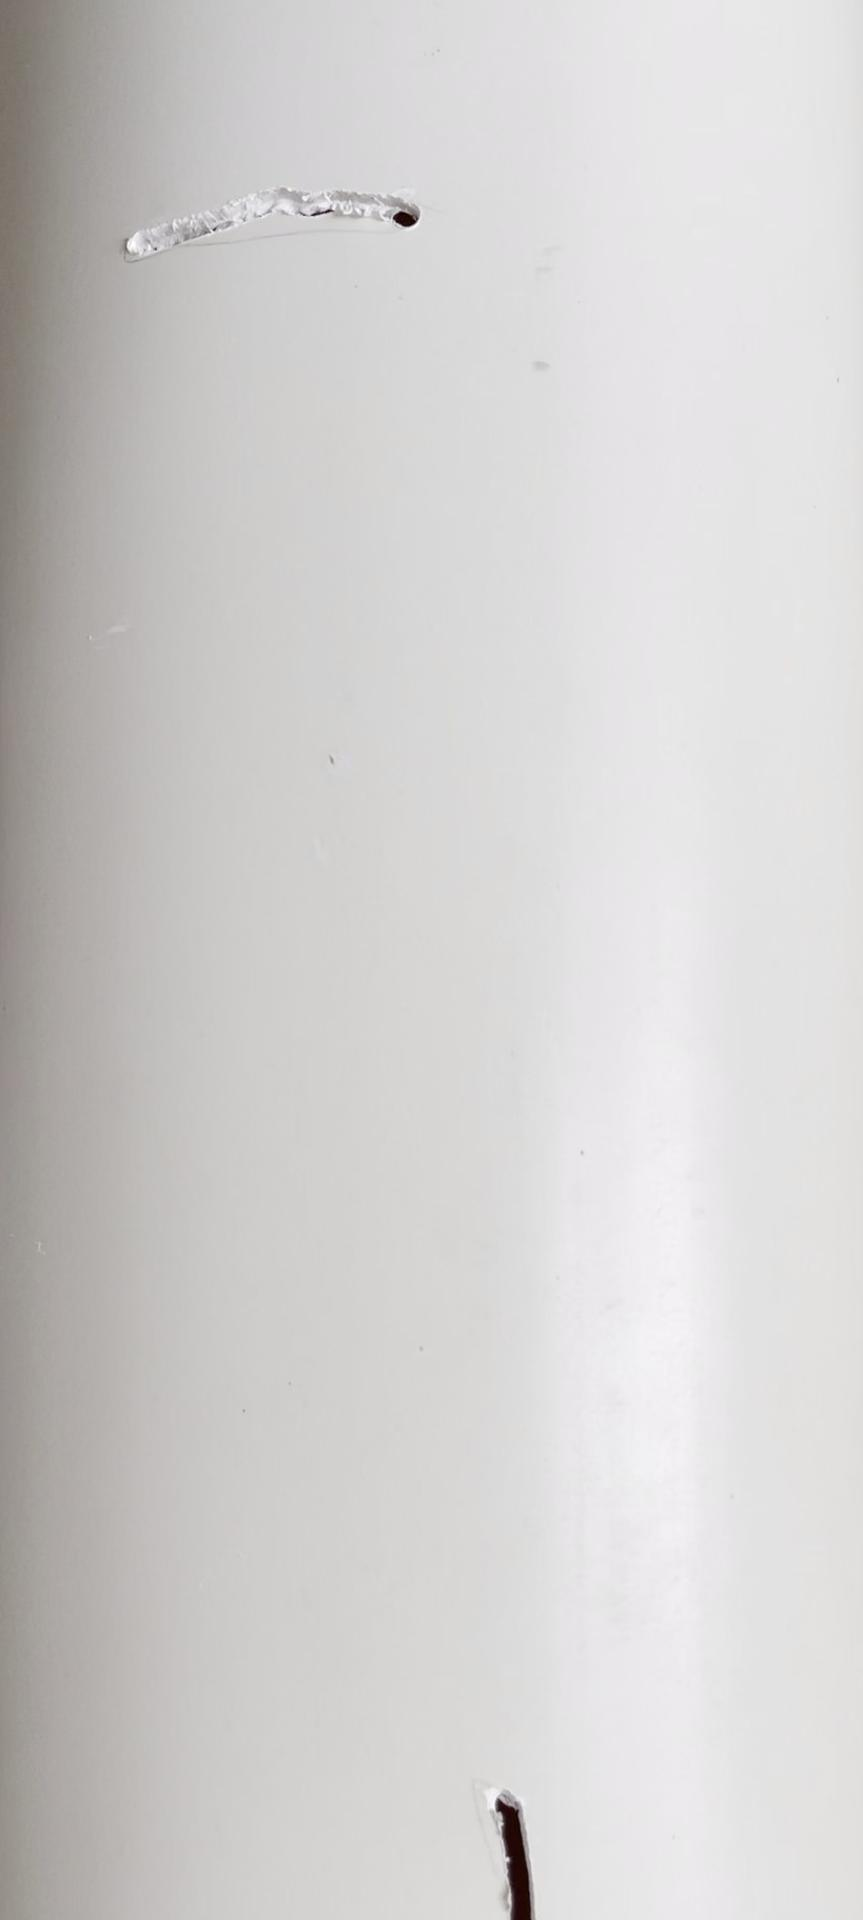fengxi: (113, 186, 433, 267), (474, 1779, 567, 1920)
